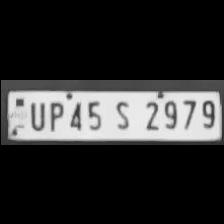2: (138, 97, 160, 130)
4: (64, 97, 82, 130)
5: (82, 97, 104, 130)
7: (178, 96, 196, 130)
9: (196, 97, 218, 129), (160, 96, 178, 130)
P: (44, 99, 64, 131)
S: (108, 96, 134, 130)
U: (24, 98, 46, 130)
